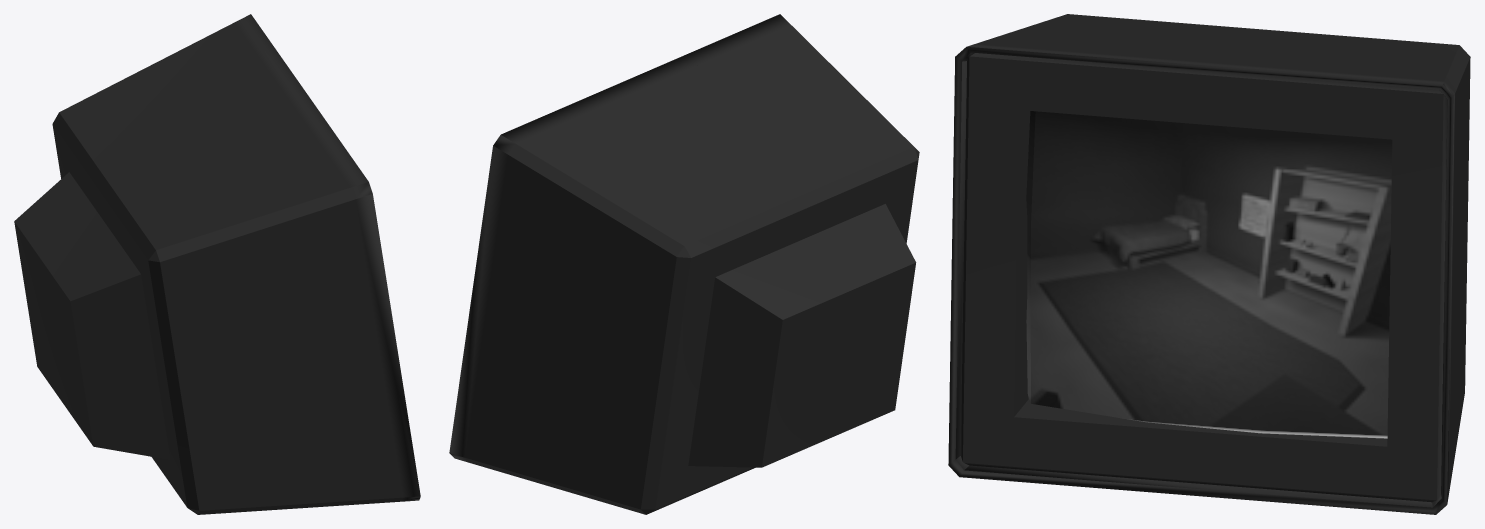
File: Tele1.fbx
The picture shows the model from 3 angles, left to right: view 1: azimuth 30°, elevation 25°; view 2: azimuth 150°, elevation 25°; view 3: azimuth 270°, elevation 25°; orthographic projection. The views are drawn at different scales.
Visible parts, largest first — view 1: Tele.001; view 2: Tele.001; view 3: Tele.001.
Part boxes in pixels (x1=…): Tele.001: x1=14, y1=14, x2=420, y2=514; Tele.001: x1=449, y1=14, x2=919, y2=514; Tele.001: x1=948, y1=14, x2=1470, y2=514.
Bounding box in the file's own units: 54.54 × 51.49 × 59.19.
